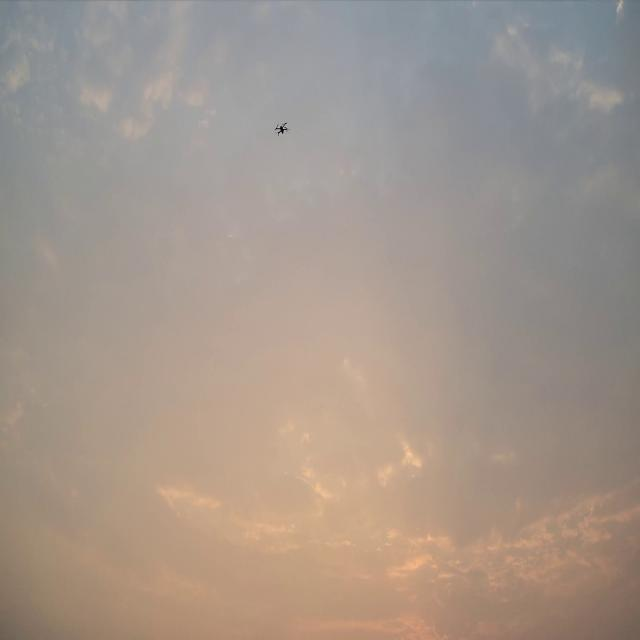UAV: (274, 122, 289, 136)
